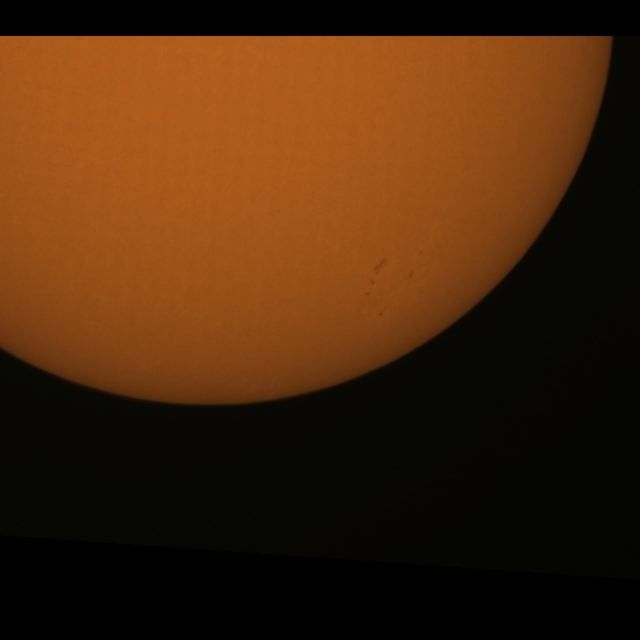sunspot: (370, 256, 388, 283), (408, 269, 414, 280), (377, 310, 385, 318), (419, 249, 424, 256)
